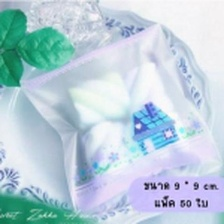snack: (13, 16, 224, 219)
